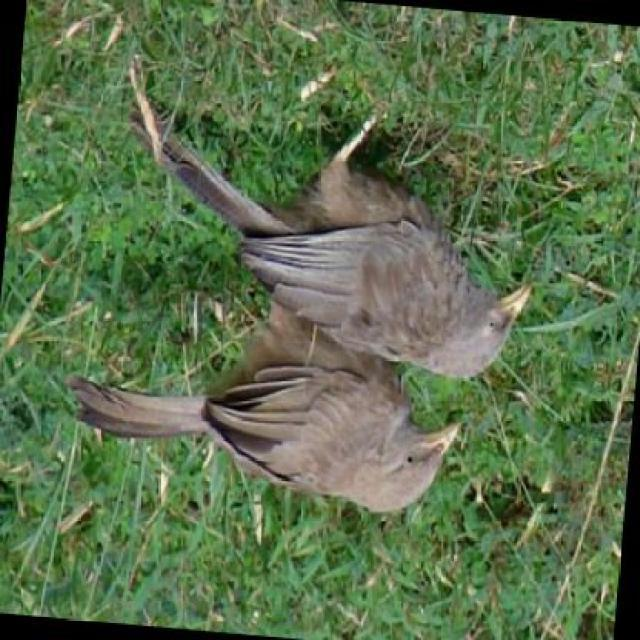Bird: (139, 96, 545, 364), (66, 344, 464, 517)
